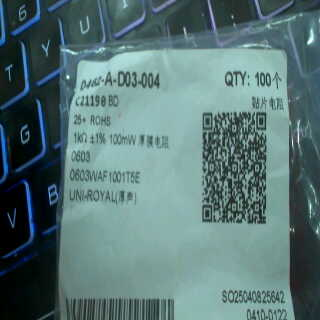1kR: (72, 127, 89, 152)
